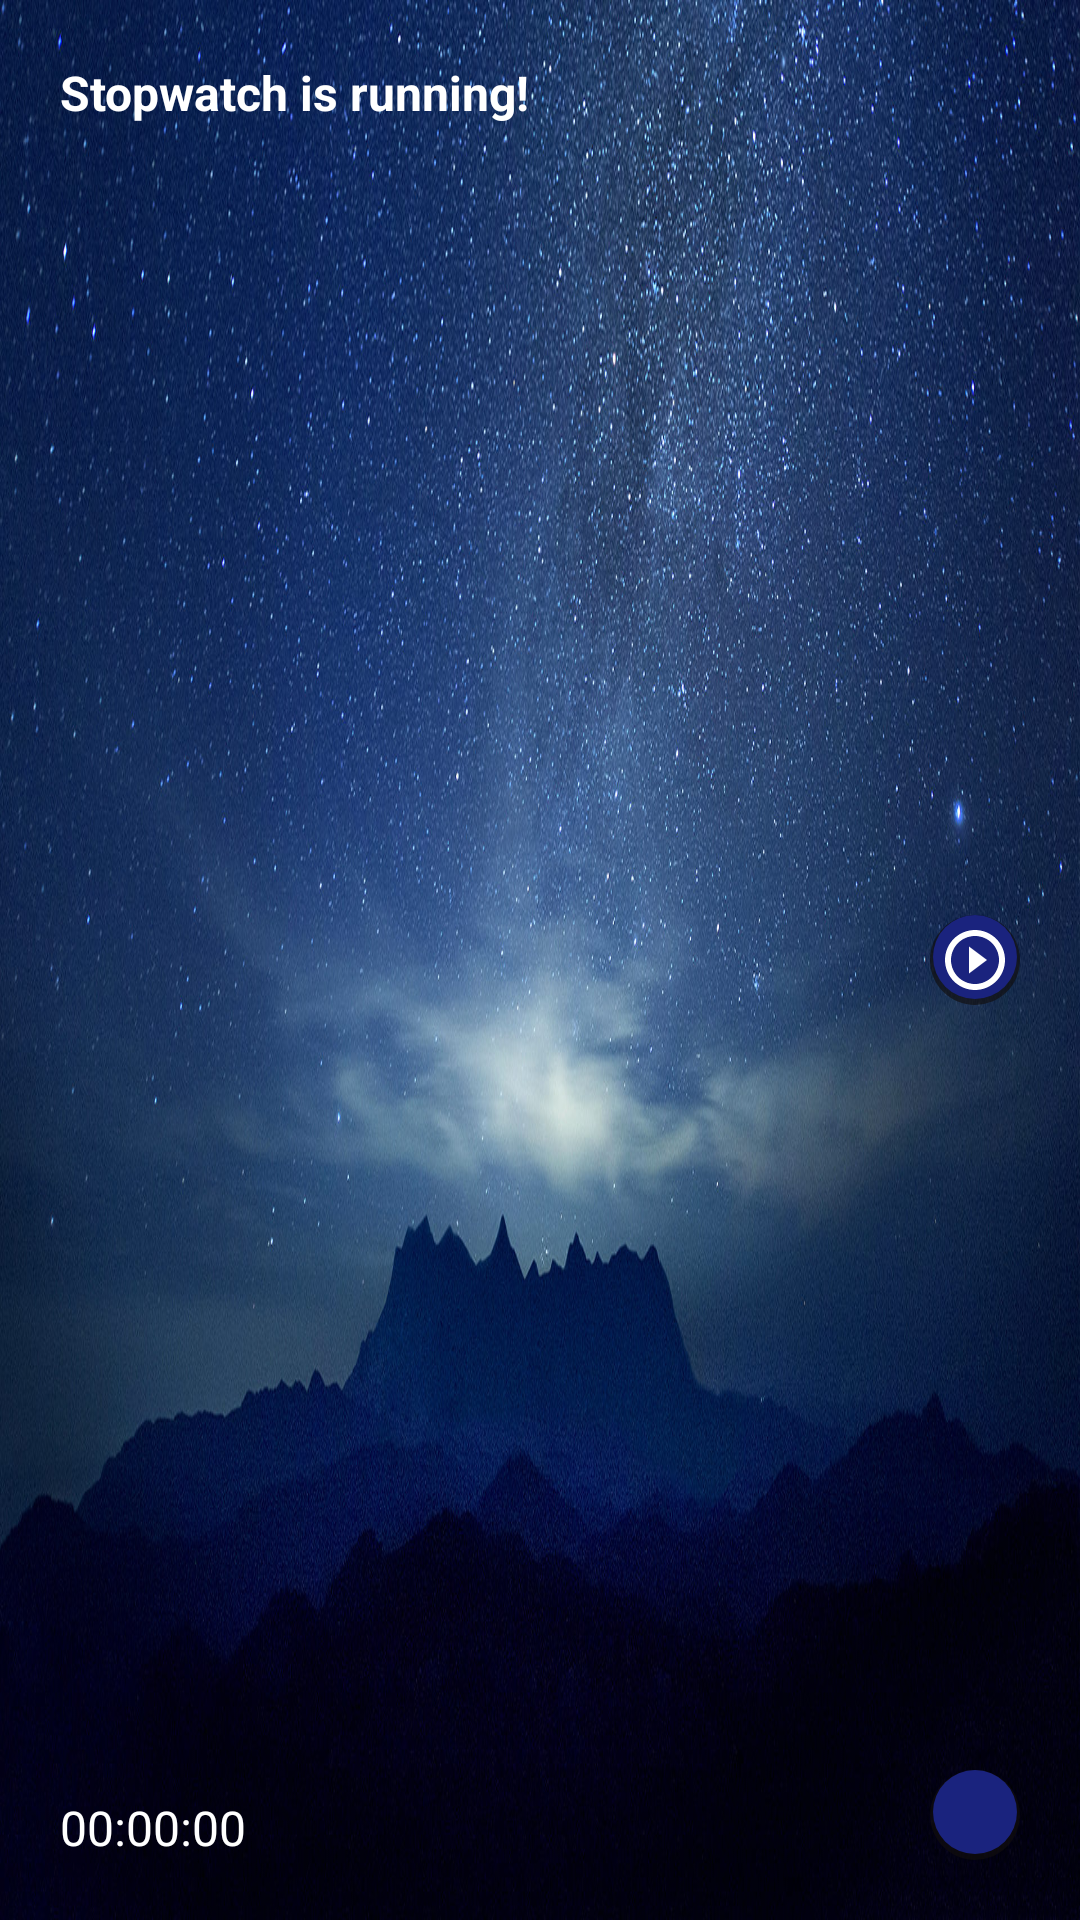

Icon click points for this 1080x1920 phone screenshot, format (x=x, y=y):
play circle: (x=975, y=960)
